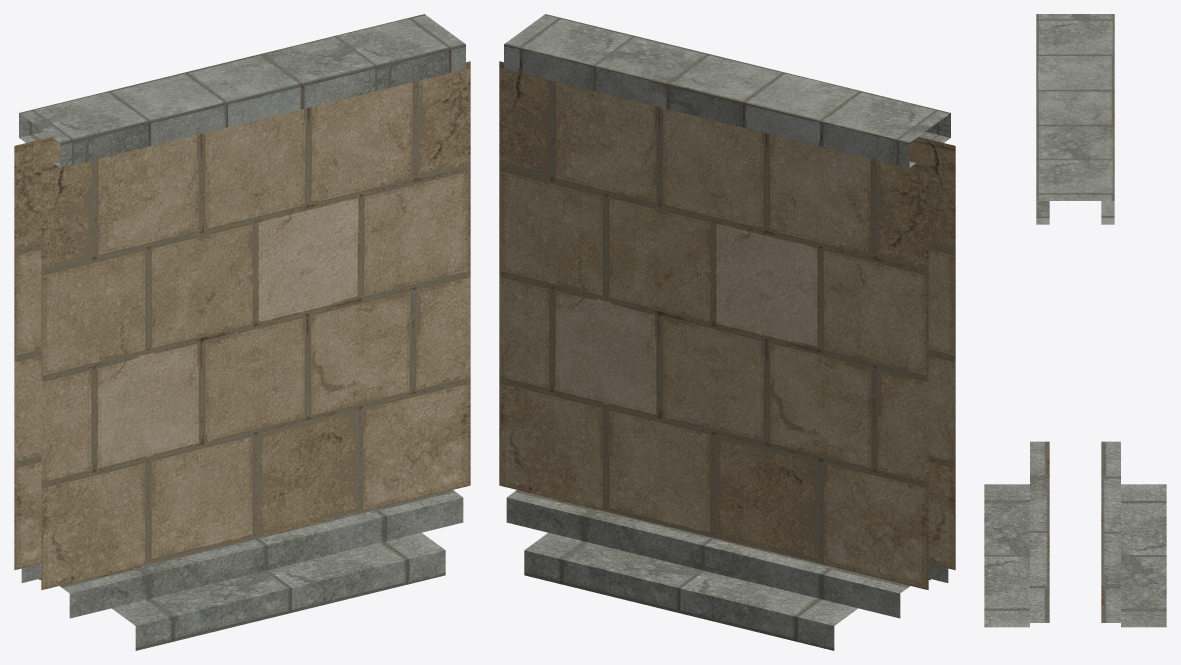
File: wall_fill_2U.fbx
3 renders of one model, left to right at view 1: azimuth 30°, elevation 25°; view 2: azimuth 150°, elevation 25°; view 3: azimuth 270°, elevation 25°, orthographic. The views are drawn at different scales.
Parts seen in each view (by area): view 1: wall_fill_2U; view 2: wall_fill_2U; view 3: wall_fill_2U.
Part boxes in pixels (left/top/right/bottom): wall_fill_2U: left=14, top=14, right=470, bottom=650; wall_fill_2U: left=499, top=14, right=955, bottom=650; wall_fill_2U: left=984, top=14, right=1166, bottom=627.
Size of the model in its own units: 180 by 200 by 70.
